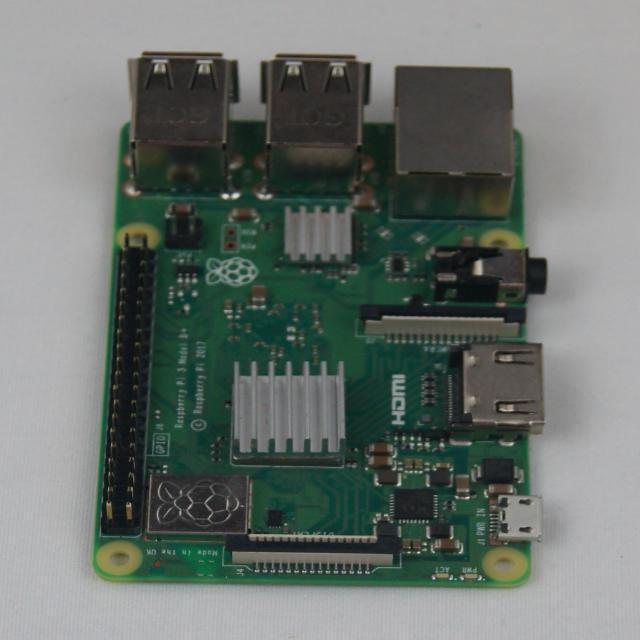Raspberry Pi 3 B-: (94, 53, 548, 584)
